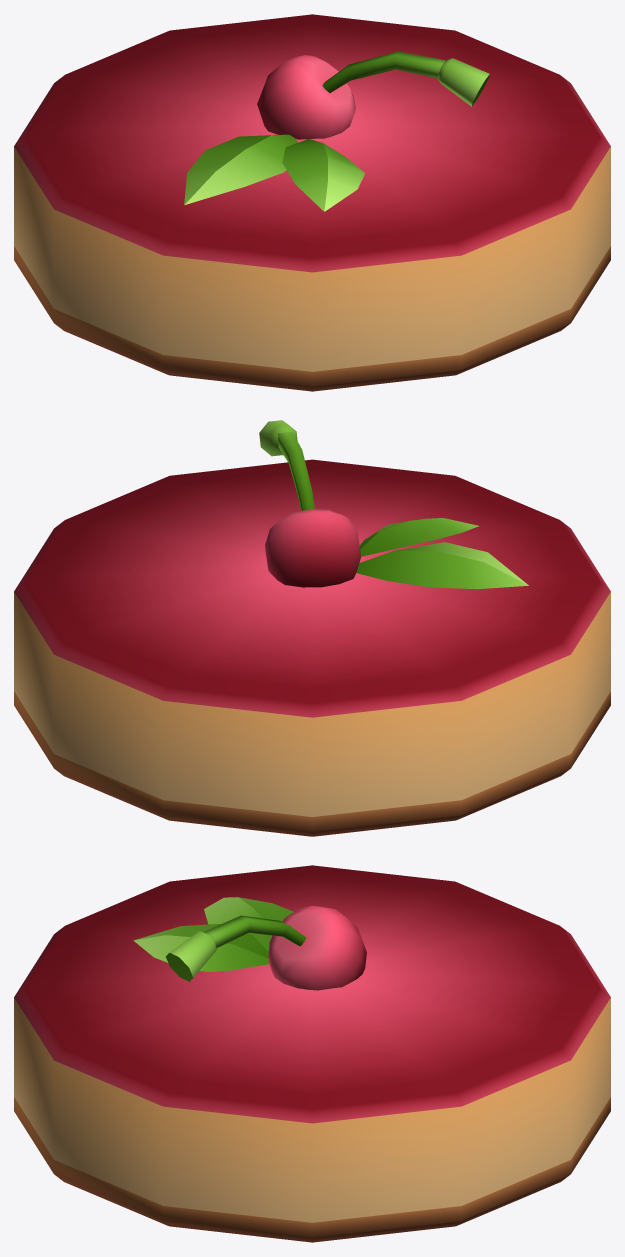
Rendered from m_CheeseCake03.fbx.
3 views of the same model, one above another, from view 1: azimuth 30°, elevation 25°; view 2: azimuth 150°, elevation 25°; view 3: azimuth 270°, elevation 25° (orthographic).
Parts seen in each view (by area): view 1: m_CheeseCake03; view 2: m_CheeseCake03; view 3: m_CheeseCake03.
Boxes of the visible parts, x1,y1,x2,y2 form: m_CheeseCake03: (14, 14, 610, 391); m_CheeseCake03: (14, 420, 610, 836); m_CheeseCake03: (14, 865, 610, 1242).
Bounding box in the file's own units: 28 × 11.89 × 28.
